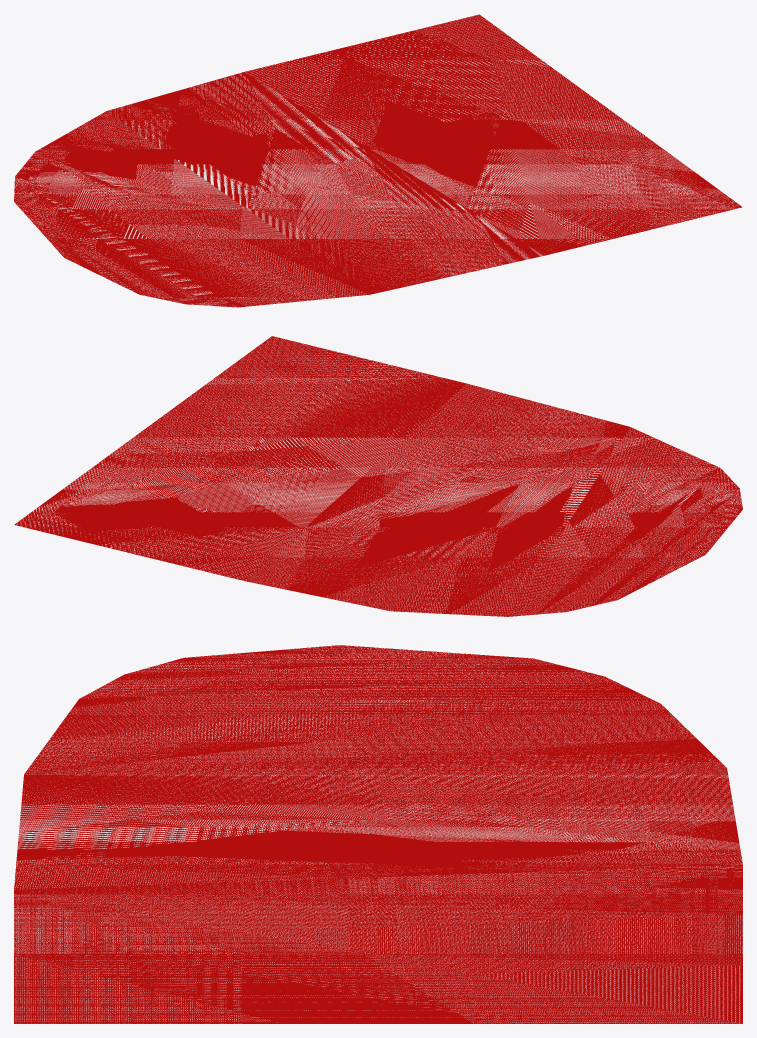
File: original-31.obj
3 views of the same model, one above another, from view 1: azimuth 30°, elevation 25°; view 2: azimuth 150°, elevation 25°; view 3: azimuth 270°, elevation 25° (orthographic). The views are drawn at different scales.
Parts seen in each view (by area): view 1: mesh30/mesh30-geometry#mesh30-geometry; view 2: mesh30/mesh30-geometry#mesh30-geometry; view 3: mesh30/mesh30-geometry#mesh30-geometry.
Part boxes in pixels (x1,y1,x2,y2): mesh30/mesh30-geometry#mesh30-geometry: (14,14,742,307); mesh30/mesh30-geometry#mesh30-geometry: (14,336,742,616); mesh30/mesh30-geometry#mesh30-geometry: (14,645,742,1023).
Bounding box in the file's own units: 0.0334 × 0 × 0.0272.
